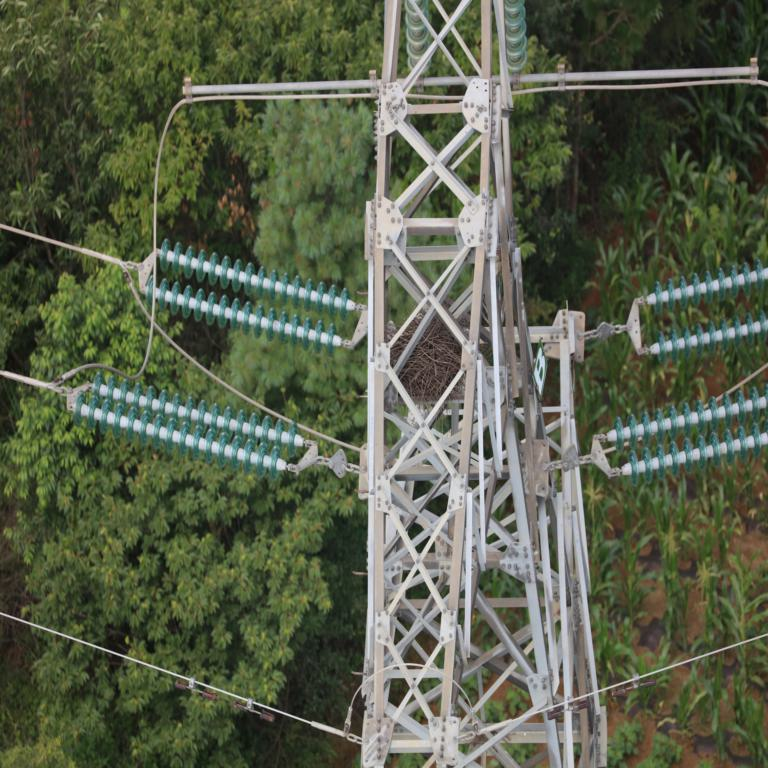nest: (385, 319, 463, 400)
